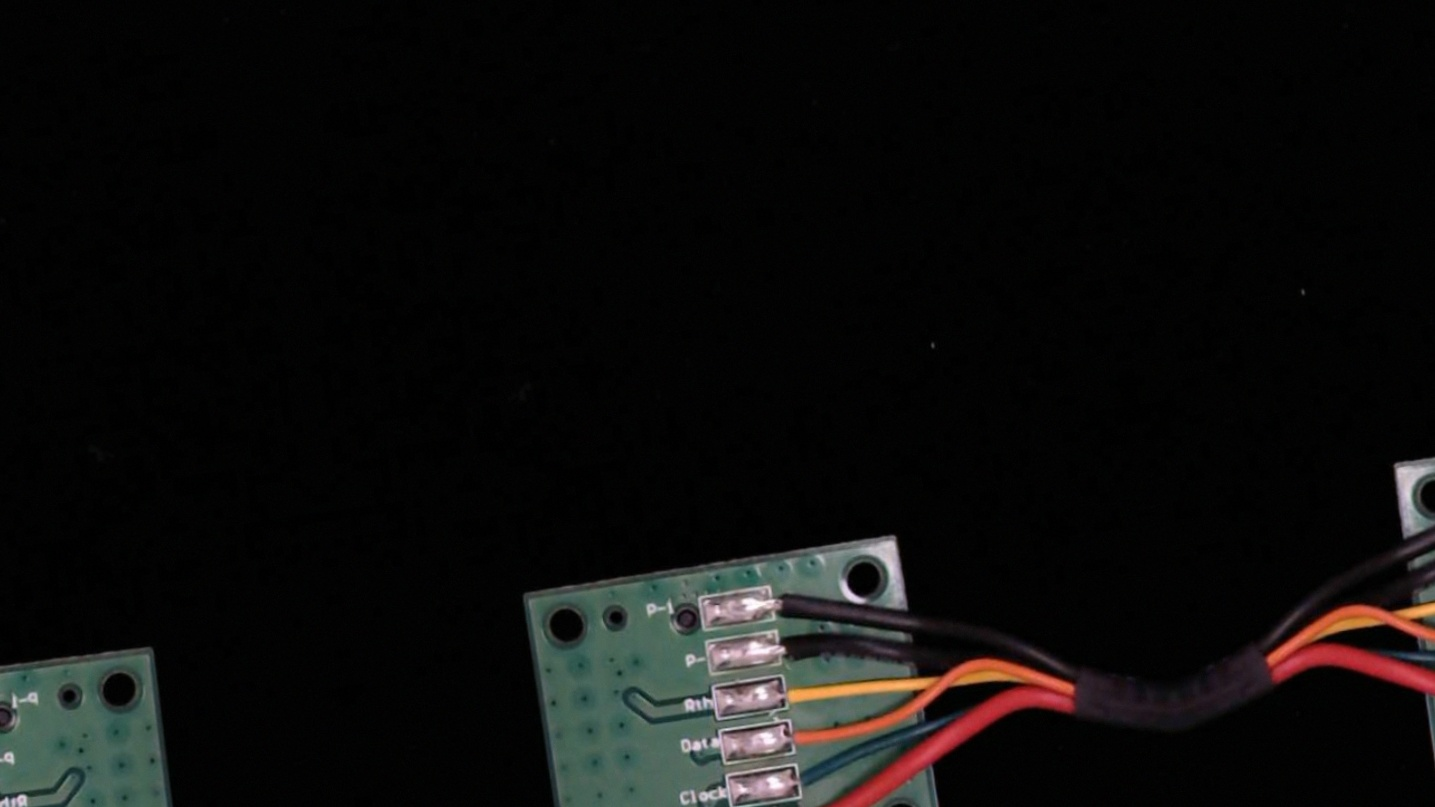Black: (756, 624, 836, 669)
Black1: (750, 573, 831, 622)
Green: (771, 758, 847, 804)
Orange: (767, 714, 842, 759)
Red: (778, 799, 863, 807)
Yellow: (762, 669, 844, 712)
